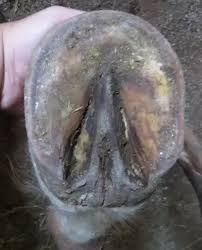horsesole: (23, 9, 185, 181)
